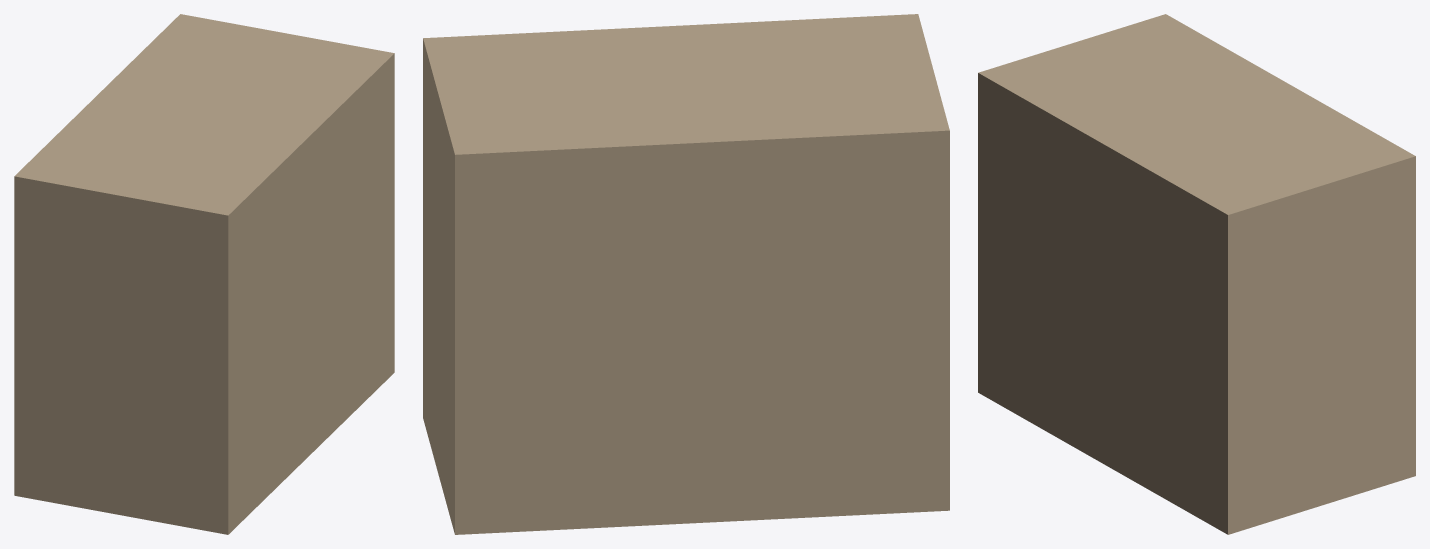
Rendered from bld_164605996.dae.
The picture shows the model from 3 angles, left to right: view 1: azimuth 30°, elevation 25°; view 2: azimuth 150°, elevation 25°; view 3: azimuth 270°, elevation 25°; orthographic projection. The views are drawn at different scales.
Parts seen in each view (by area): view 1: bld_164605996; view 2: bld_164605996; view 3: bld_164605996.
Part boxes in pixels (x1,y1,x2,y2): bld_164605996: (14,14,394,534); bld_164605996: (423,14,949,534); bld_164605996: (978,14,1415,534).
Bounding box in the file's own units: 10.79 × 9.92 × 8.
